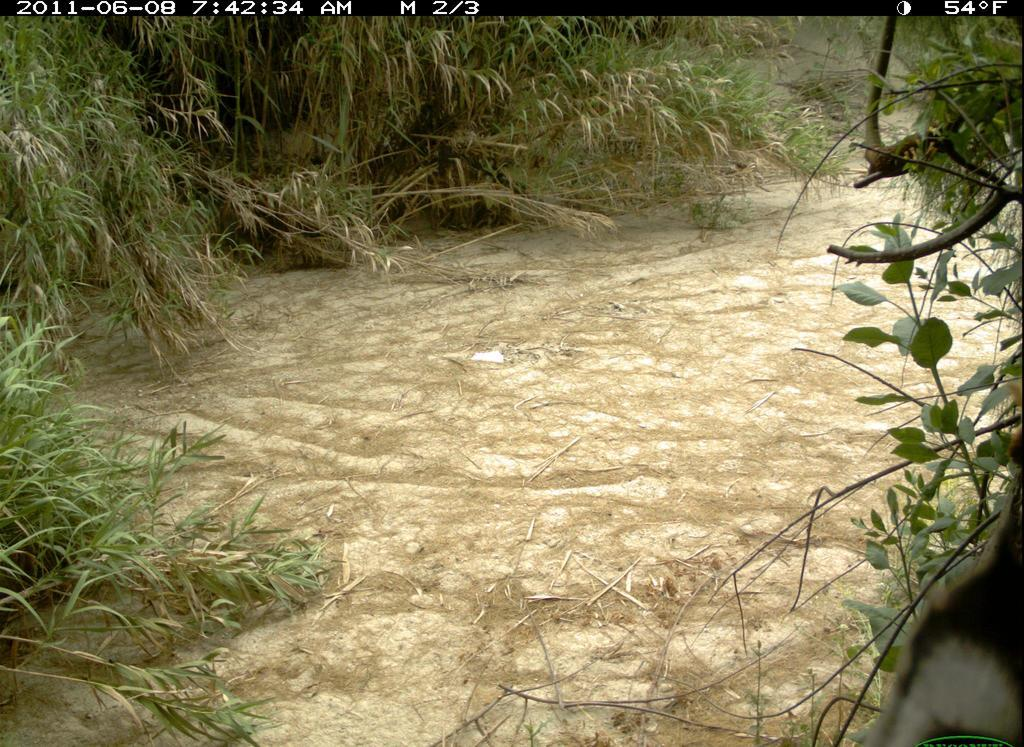bobcat: (818, 428, 1023, 747)
